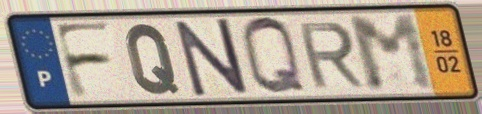F: (50, 19, 116, 101)
M: (344, 12, 441, 95)
N: (171, 16, 253, 100)
Q: (238, 14, 311, 99), (123, 21, 183, 97)
R: (294, 19, 368, 91)
